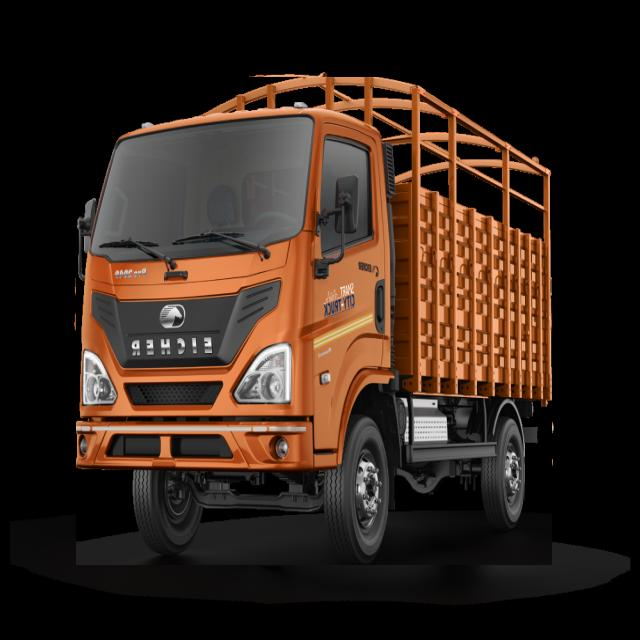truck: (76, 77, 552, 565)
